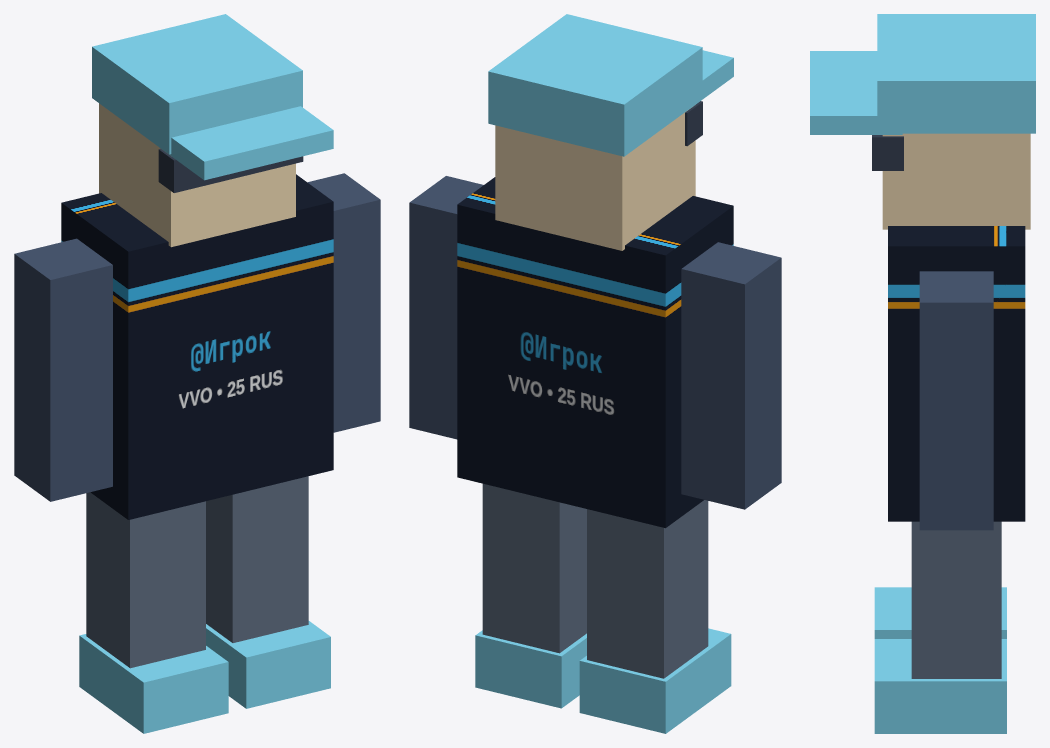
File: player.glb
The picture shows the model from 3 angles, left to right: view 1: azimuth 30°, elevation 25°; view 2: azimuth 150°, elevation 25°; view 3: azimuth 270°, elevation 25°; orthographic projection. The views are drawn at different scales.
Parts seen in each view (by area): view 1: torso, rightArm_mesh, capCrown, rightLeg_mesh, leftLeg_mesh, headMesh, leftArm_mesh, rightLeg_shoe, leftLeg_shoe, capVisor, glasses; view 2: torso, rightArm_mesh, capCrown, rightLeg_mesh, headMesh, leftLeg_mesh, leftArm_mesh, rightLeg_shoe, leftLeg_shoe, capVisor, glasses; view 3: torso, leftArm_mesh, capCrown, leftLeg_mesh, headMesh, leftLeg_shoe, capVisor, rightLeg_shoe, glasses.
Part boxes in pixels (x1,y1,x2,y2): torso: (61,174,333,519); rightArm_mesh: (14,238,112,501); capCrown: (92,14,302,154); rightLeg_mesh: (86,492,205,668); leftLeg_mesh: (206,476,308,642); headMesh: (99,103,295,247); leftArm_mesh: (307,173,380,432); rightLeg_shoe: (79,634,228,733); leftLeg_shoe: (206,621,330,708); capVisor: (159,106,333,180); glasses: (158,148,303,192); torso: (457,177,733,528); rightArm_mesh: (681,242,781,509); capCrown: (488,14,702,156); rightLeg_mesh: (587,500,708,678); headMesh: (495,108,695,250); leftLeg_mesh: (482,483,586,653); leftArm_mesh: (409,176,483,439); rightLeg_shoe: (579,628,731,733); leftLeg_shoe: (475,630,586,708); capVisor: (691,50,733,107); glasses: (685,101,702,146); torso: (888,226,1025,521); leftArm_mesh: (919,271,993,530); capCrown: (877,14,1035,133); leftLeg_mesh: (911,521,1001,678); headMesh: (882,133,1030,229); leftLeg_shoe: (874,639,1006,733); capVisor: (810,51,902,134); rightLeg_shoe: (874,587,1006,638); glasses: (872,135,903,170).
Size of the model in its own units: 1.48 by 2.67 by 0.855.
8 materials, 1 textured.
